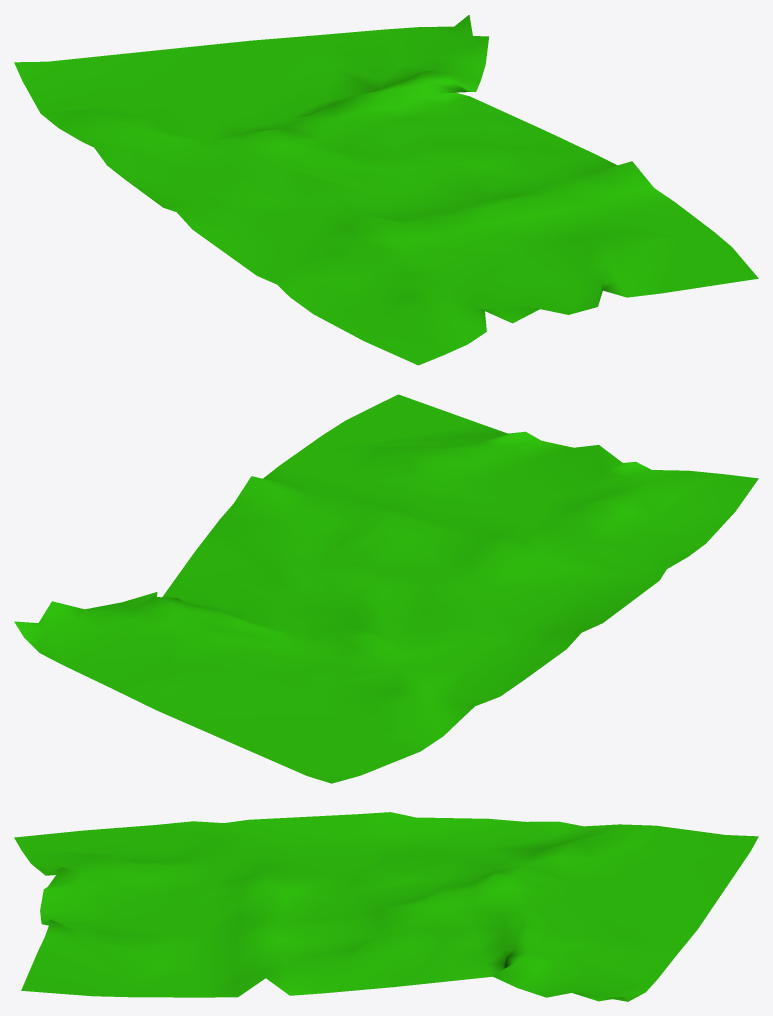
The model's file is SM_Sterilization_Container_Cloth_1.FBX.
The picture shows the model from 3 angles, top to bottom: view 1: azimuth 30°, elevation 25°; view 2: azimuth 150°, elevation 25°; view 3: azimuth 270°, elevation 25°; orthographic projection. The views are drawn at different scales.
Parts seen in each view (by area): view 1: Sterilization_Container_Cloth_1; view 2: Sterilization_Container_Cloth_1; view 3: Sterilization_Container_Cloth_1.
Part boxes in pixels (x1,y1,x2,y2): Sterilization_Container_Cloth_1: [14, 15, 758, 365]; Sterilization_Container_Cloth_1: [14, 394, 758, 783]; Sterilization_Container_Cloth_1: [14, 812, 758, 1001].
Bounding box in the file's own units: 34.33 × 1.39 × 57.46.
